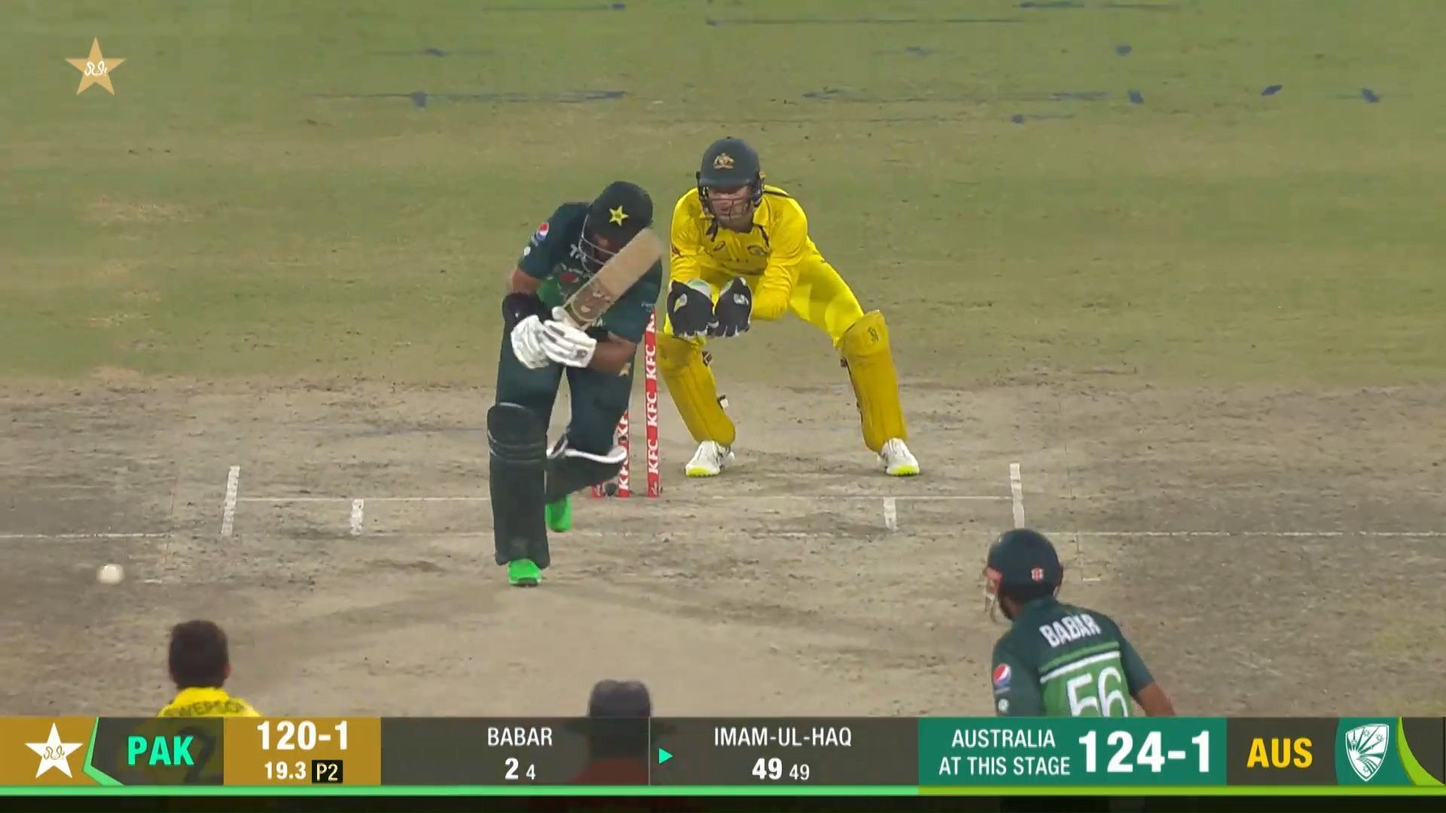BM 1: (484, 180, 671, 586)
BO: (112, 615, 313, 813)
